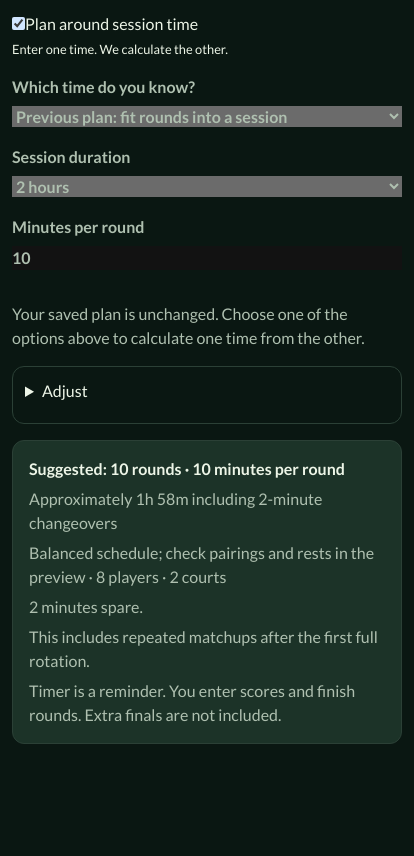
Test case: simple time planner › preserves previous two-input plans until the organizer explicitly changes mode
The width and height of the screenshot is (414, 856).
expect the text "Suggested: 10 rounds · 10 minutes per round" is shown: met, box [29,457,385,481]
expect the text "Your saved plan is unchanged" is shown: met, box [12,304,365,347]
Select "I know the session length" in the dropdown labelled "Which time do you know?": (207, 117) [12,106,402,127]
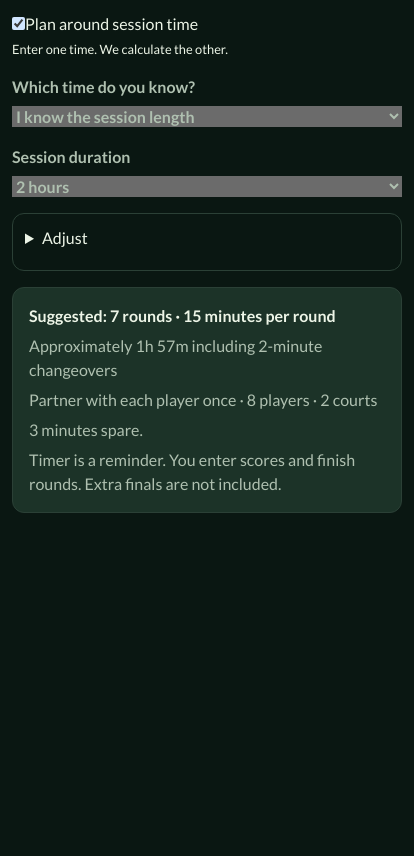
expect the text "Suggested: 7 rounds · 15 minutes per round" is shown: met, box [29,304,385,328]
